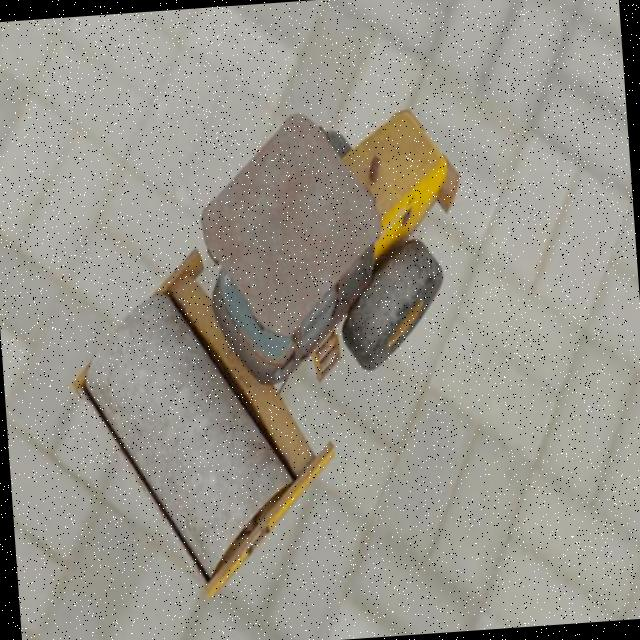Roller: (52, 100, 488, 606)
